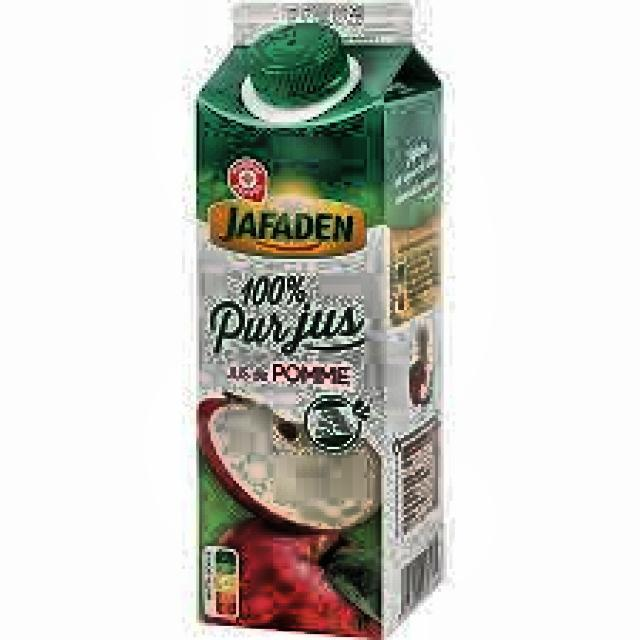cardboard: (190, 0, 447, 637)
